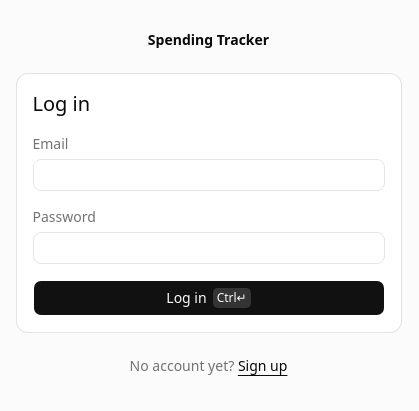
shows the server's message when credentials are wrong
This screenshot has width=419, height=411.
Type "alice@example.com" into the field labelled "Email". click: coordinates (208, 175)
box: [32,159,384,191]
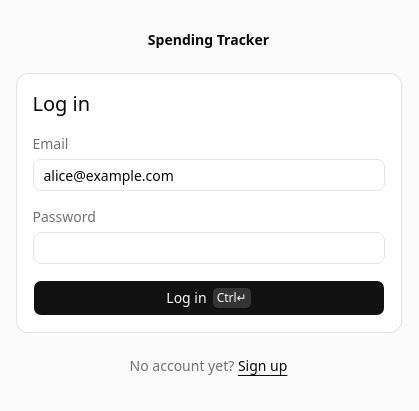
Type "wrong password" into the password field labelled "Password". click: coordinates (208, 248)
box: [32,232,384,264]
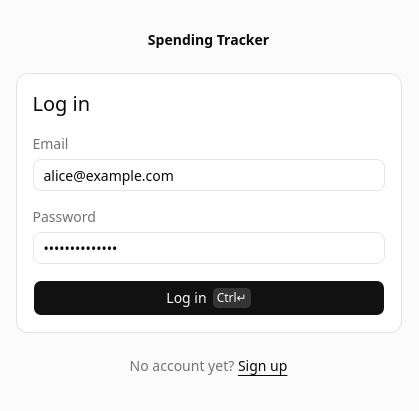
Click the button "Log in Ctrl↵". click: coordinates (208, 298)
box: [32,280,384,316]
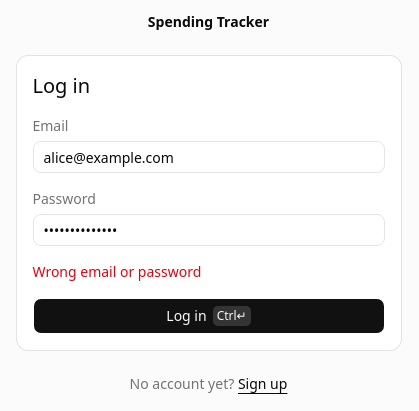
Check: the message reads "Wrong email or password", box [32,262,201,281]
